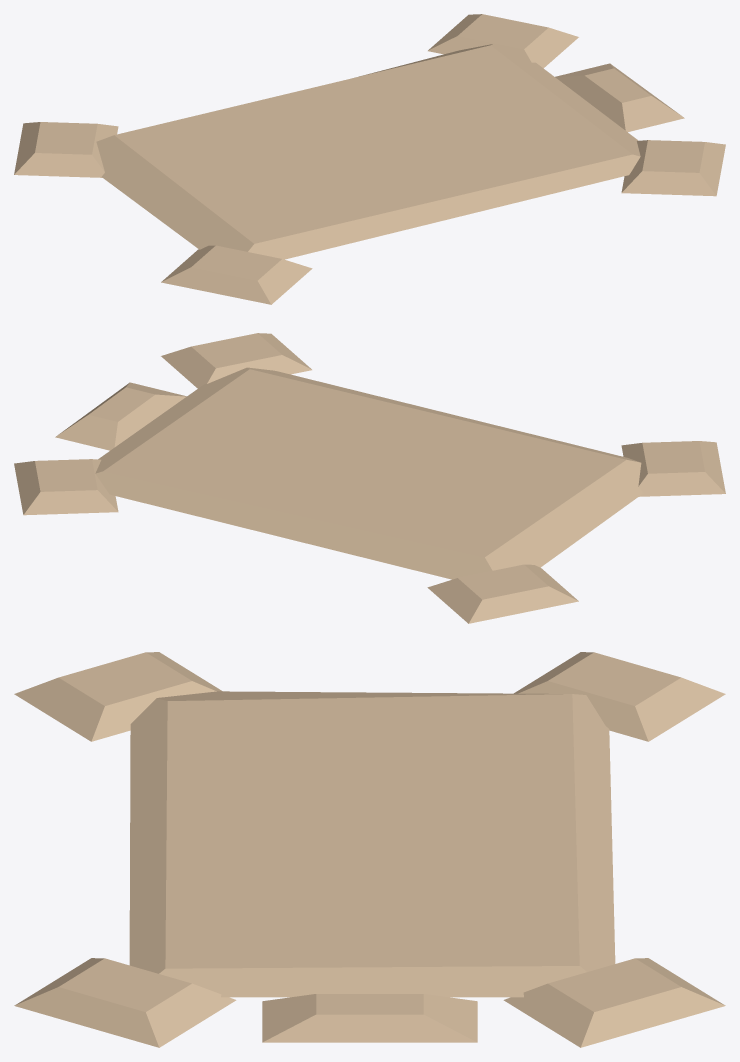
File: hide.glb
3 views of the same model, one above another, from view 1: azimuth 30°, elevation 25°; view 2: azimuth 150°, elevation 25°; view 3: azimuth 270°, elevation 25° (orthographic). The views are drawn at different scales.
Parts seen in each view (by area): view 1: hide; view 2: hide; view 3: hide.
Boxes of the visible parts, x1,y1,x2,y2 form: hide: [14, 14, 725, 304]; hide: [14, 333, 725, 623]; hide: [14, 652, 725, 1047].
Bounding box in the file's own units: 0.9572 × 0.0295 × 0.7276.
